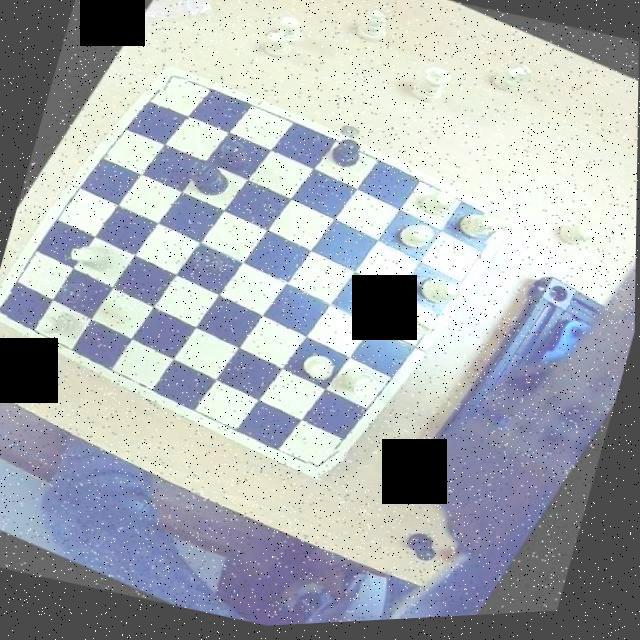chess-table-corners: (301, 441, 352, 490), (472, 214, 522, 262), (153, 64, 194, 103), (0, 286, 30, 328)
